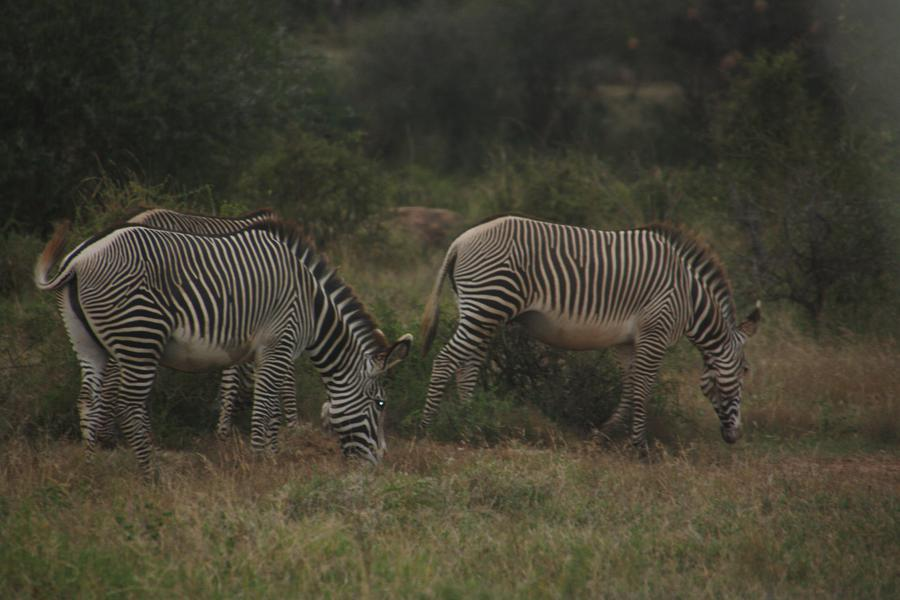zebra_grevys: (447, 203, 670, 350)
